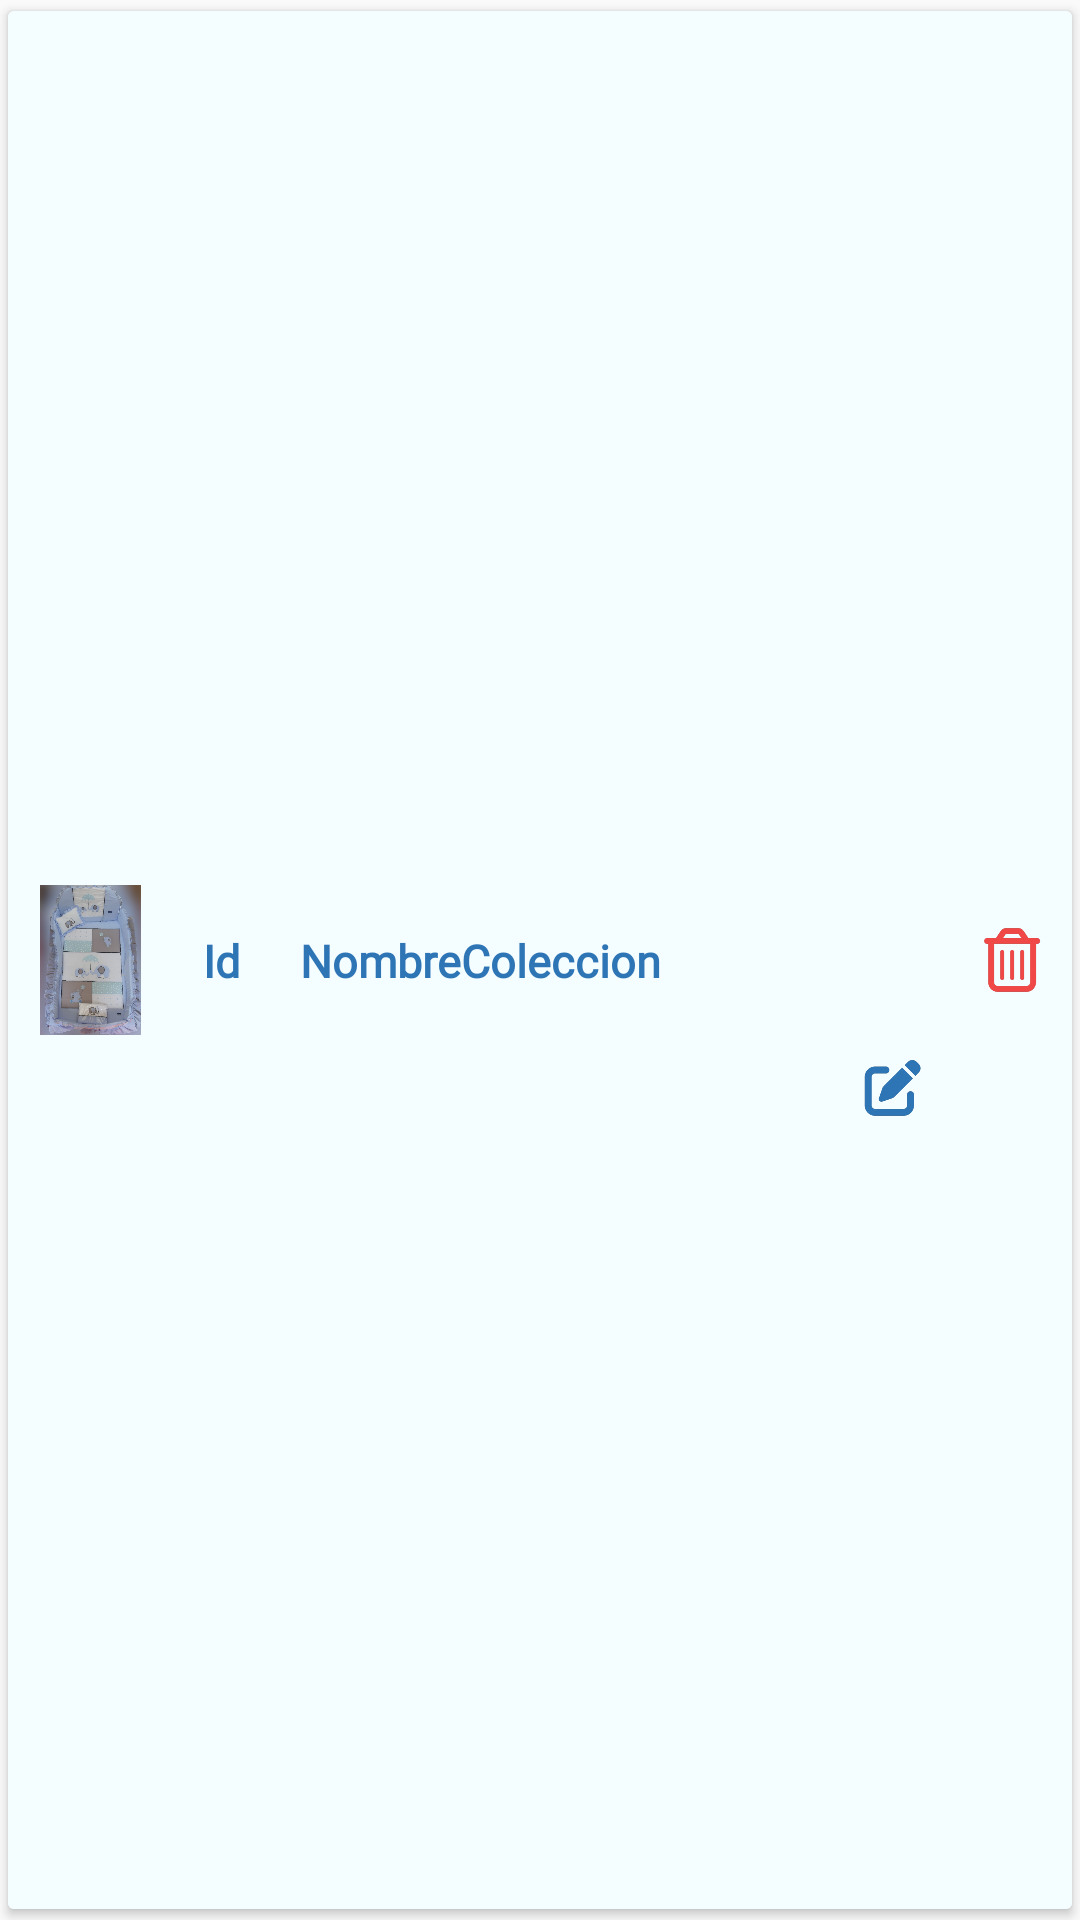

Icons on this 1080x1920 Android screen, each with the point to tap as point (x, y):
editar: point (892, 1088)
trash: point (1012, 960)
